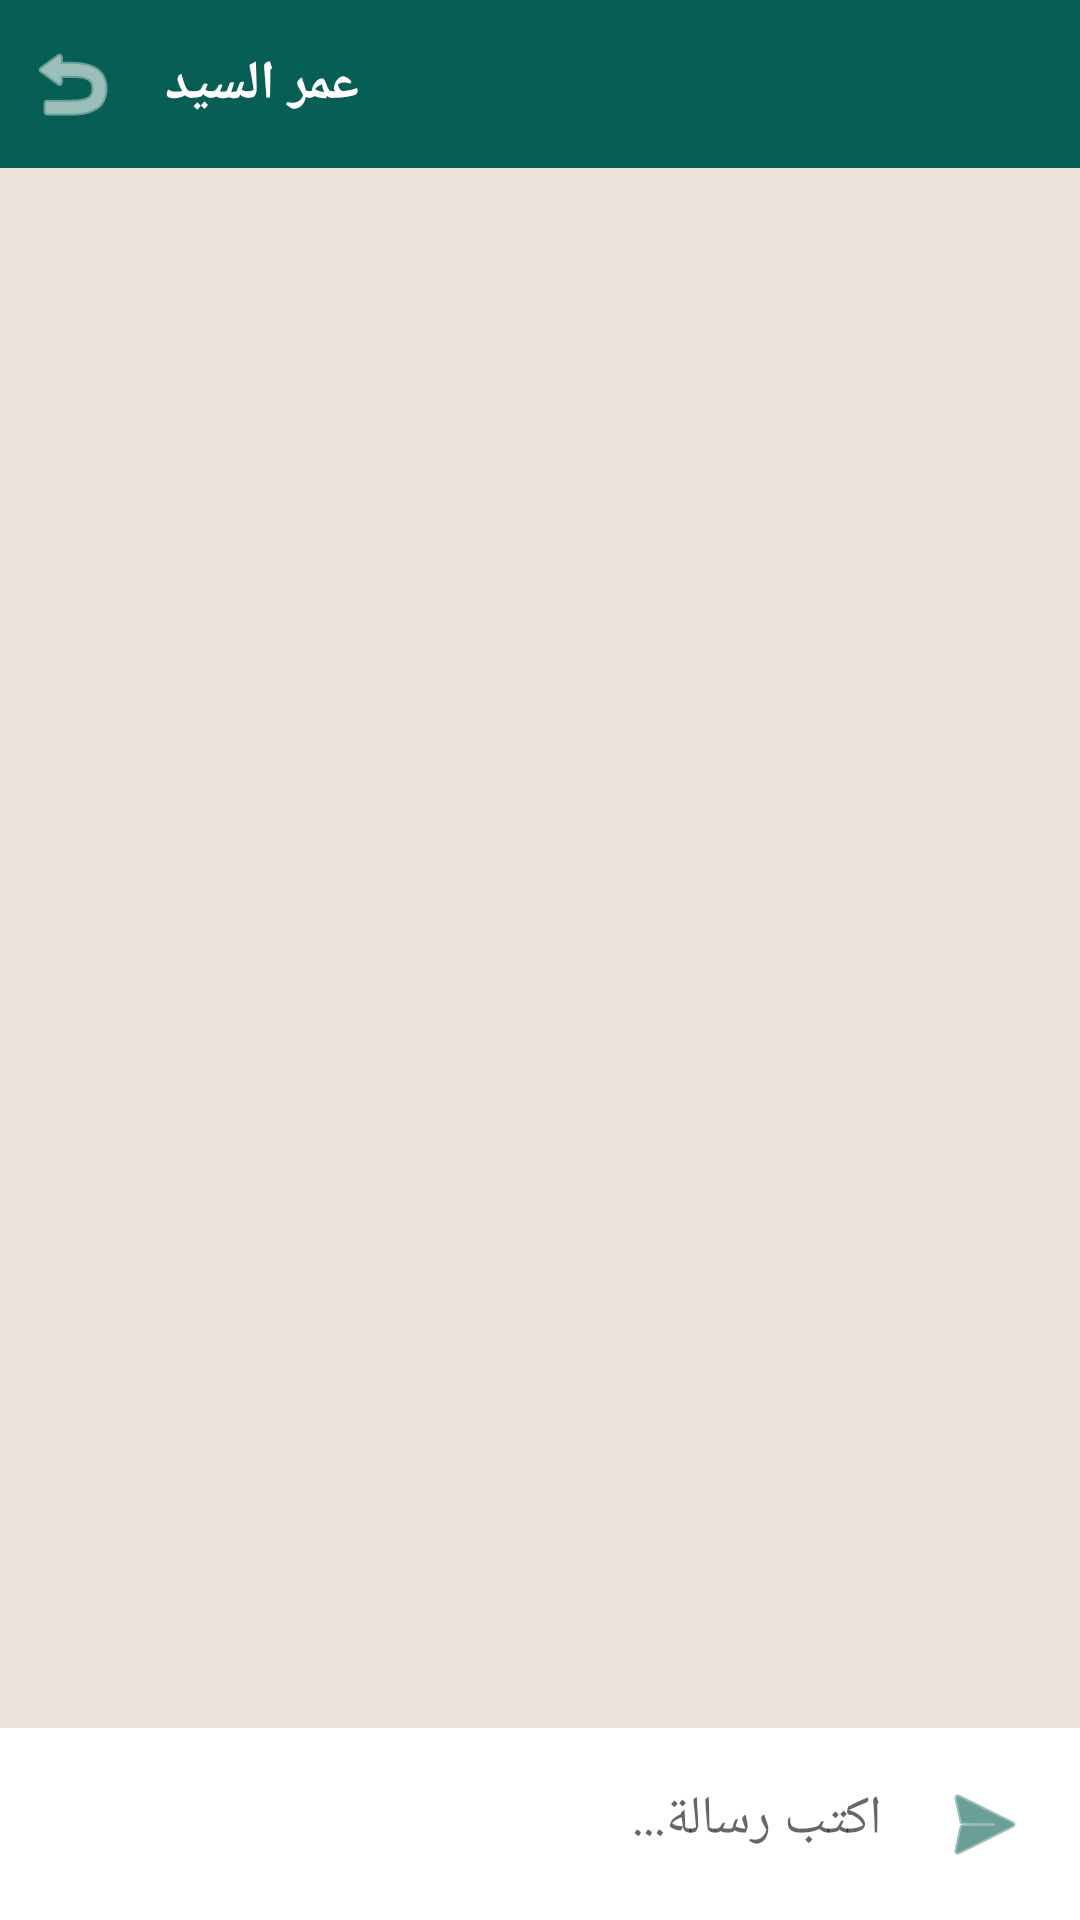

Screen size 1080px x 1920px. Icon name, then its box in pixels as (x1, y1, x2, y2):
revert: (39, 53, 108, 116)
send: (954, 1794, 1016, 1855)
